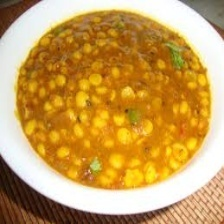dal: (10, 6, 215, 195)
